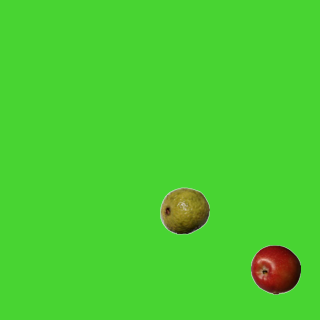Apple Braeburn: (250, 244, 300, 294)
Guava: (159, 185, 209, 235)
